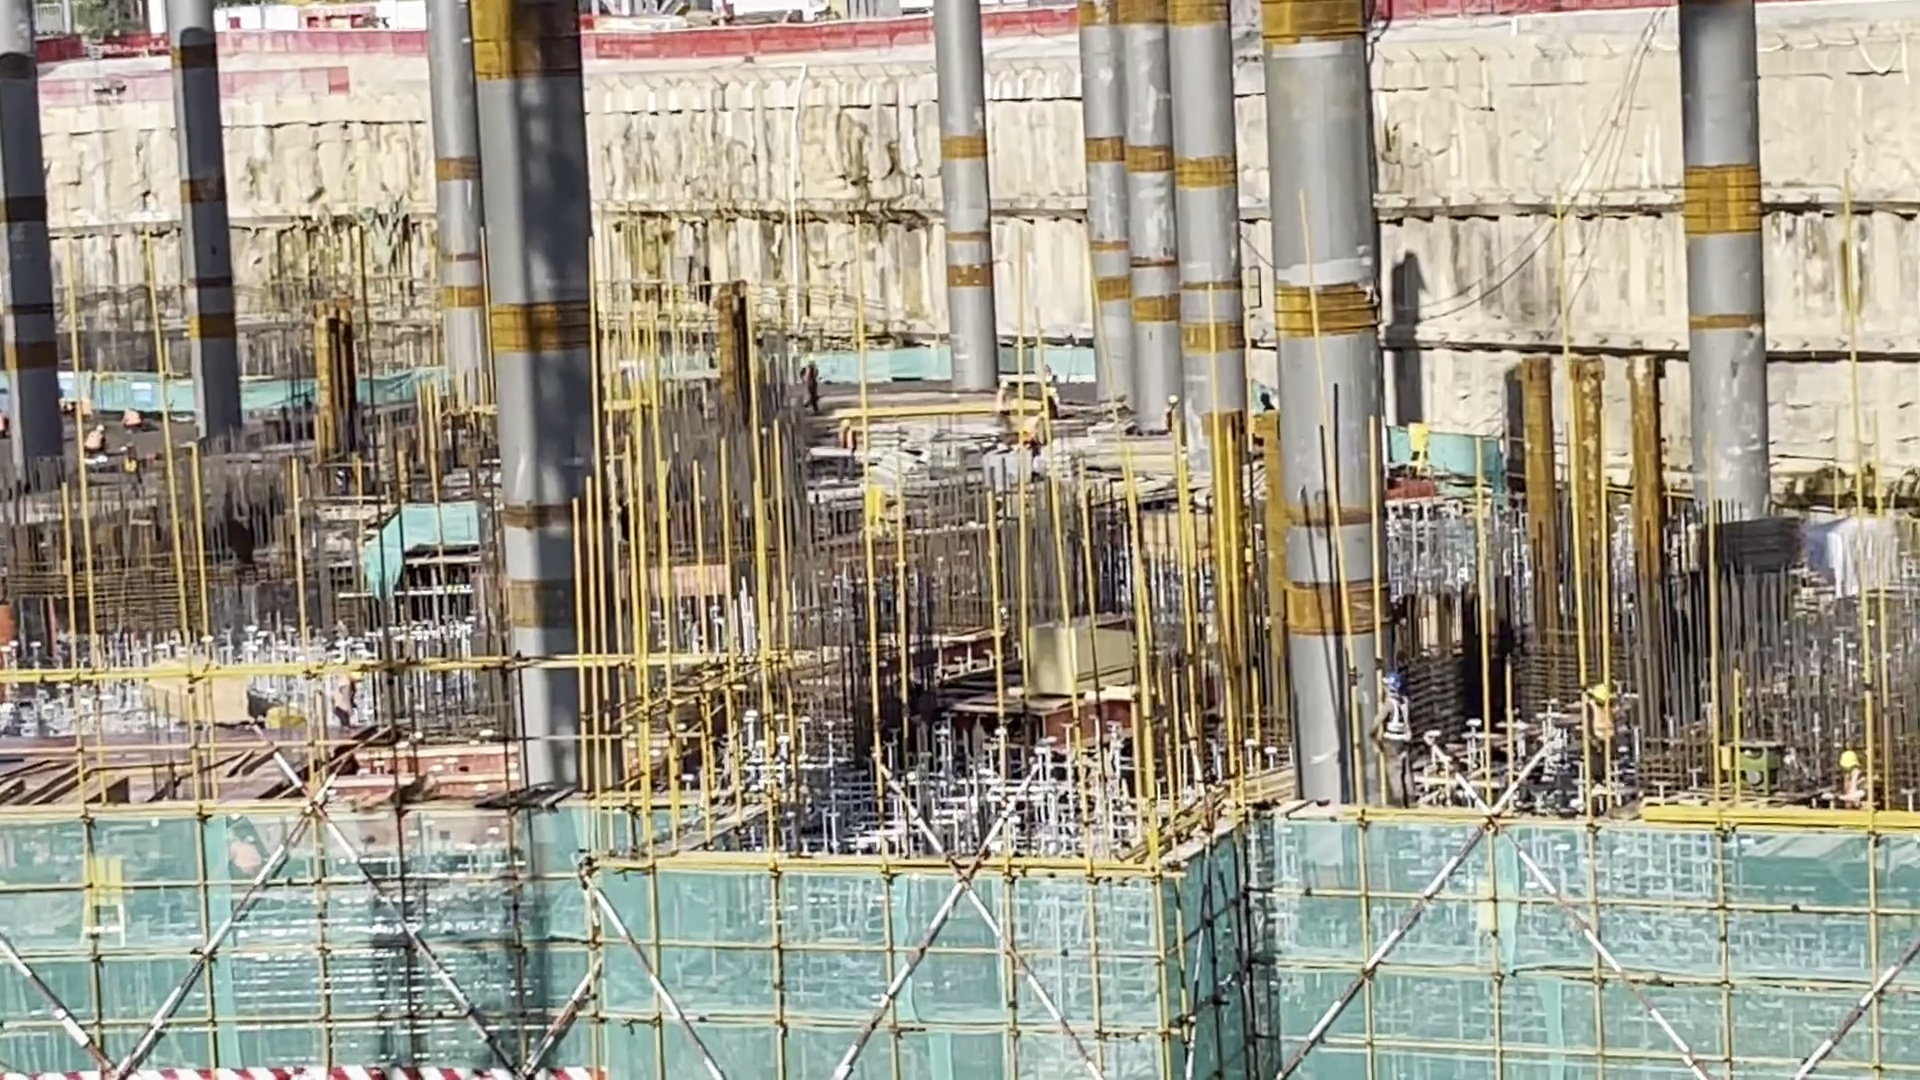helmet: (1840, 750, 1859, 768), (1383, 674, 1401, 692), (1593, 684, 1610, 701)
person: (1373, 673, 1415, 807), (1589, 684, 1612, 784)
vest: (1382, 710, 1411, 749), (1593, 700, 1612, 737)
